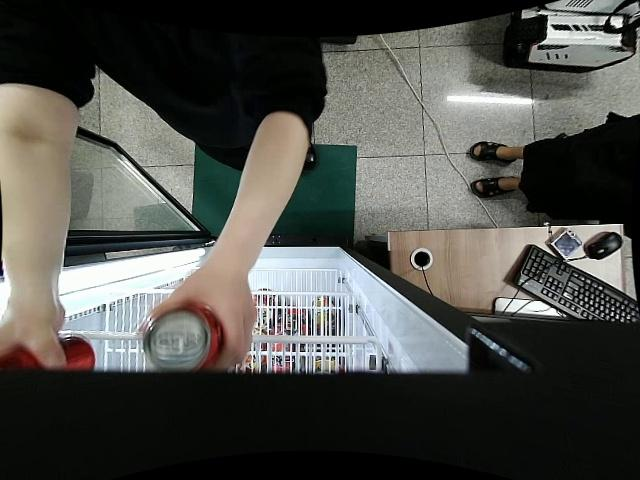00_hand: (131, 269, 259, 373), (0, 287, 69, 375)
11_cocaColaZero: (139, 303, 225, 373), (3, 330, 95, 375)
